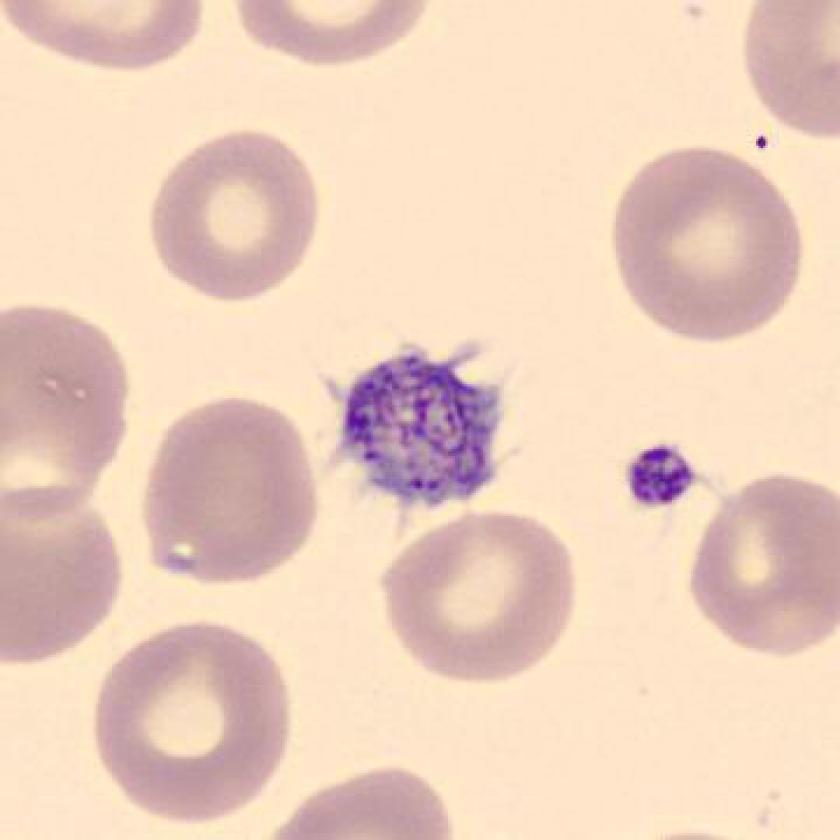platelets: (328, 339, 507, 526), (615, 439, 708, 520)
